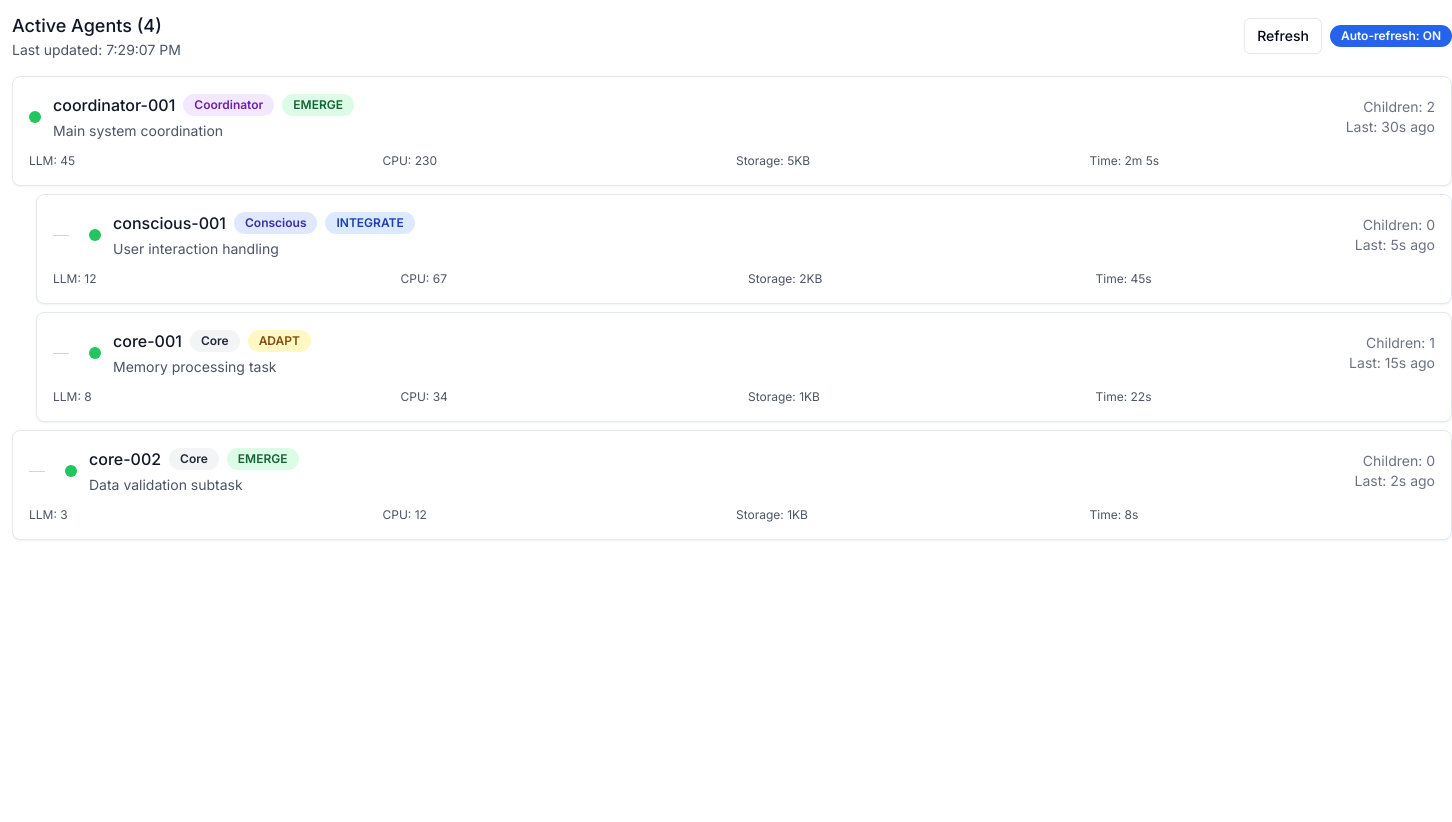
Test: AgentHierarchyVisualizer › should show selected agent details
Expected: the text "coordinator-001" is shown, [53, 93, 175, 117]
// Click on an agent to select it
What coordinates should you click on to do the following:
click the text "coordinator-001"
I would click on:
 (732, 131)
Its box is [12, 76, 1451, 186].
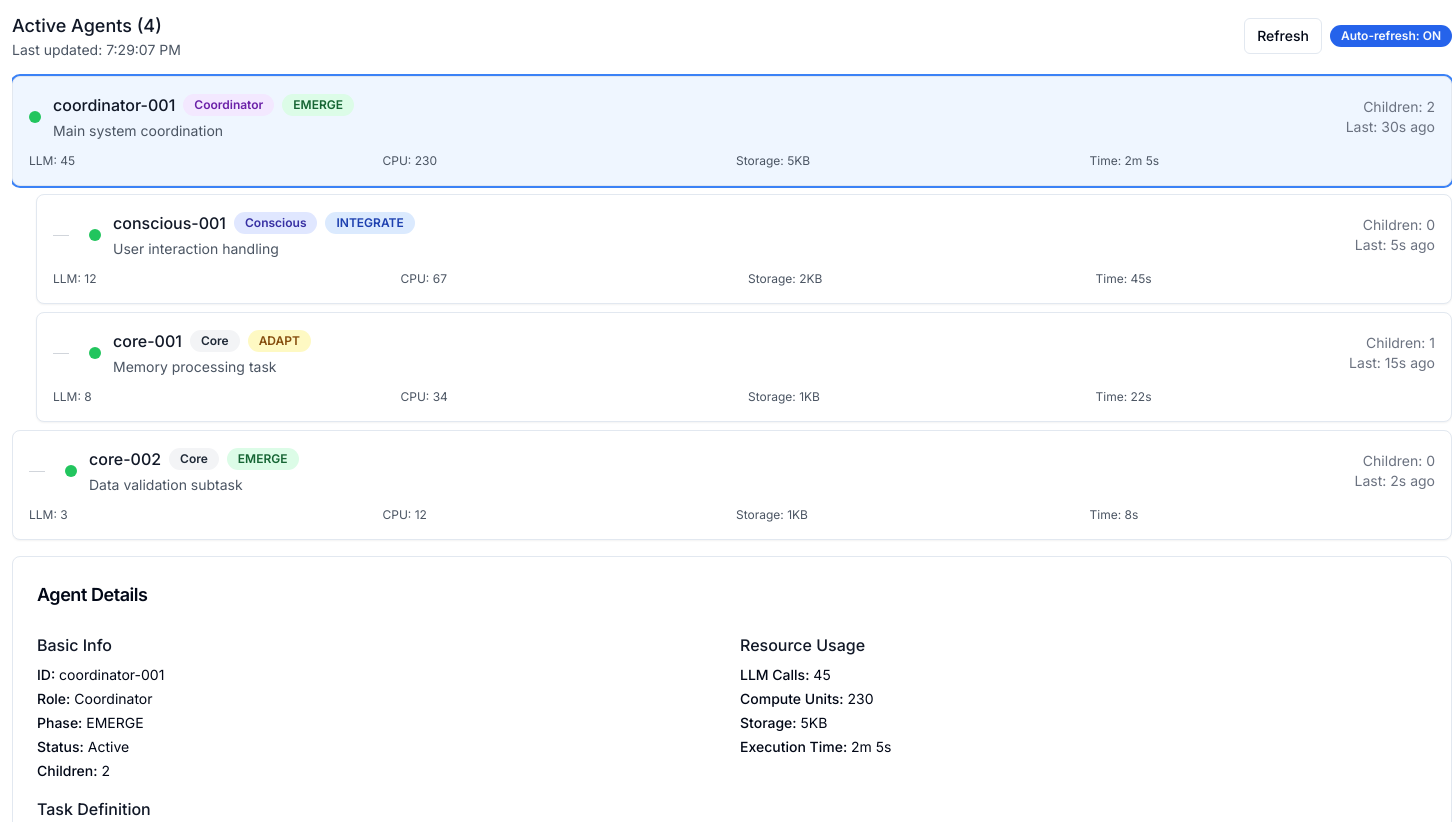
Now the heading "Agent Details" is shown, box [37, 584, 148, 605]
Now the heading "Basic Info" is shown, box [37, 635, 112, 655]
Now the heading "Resource Usage" is shown, box [740, 635, 865, 655]
